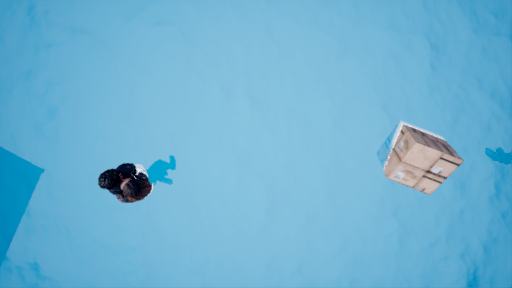person: (98, 151, 175, 207)
